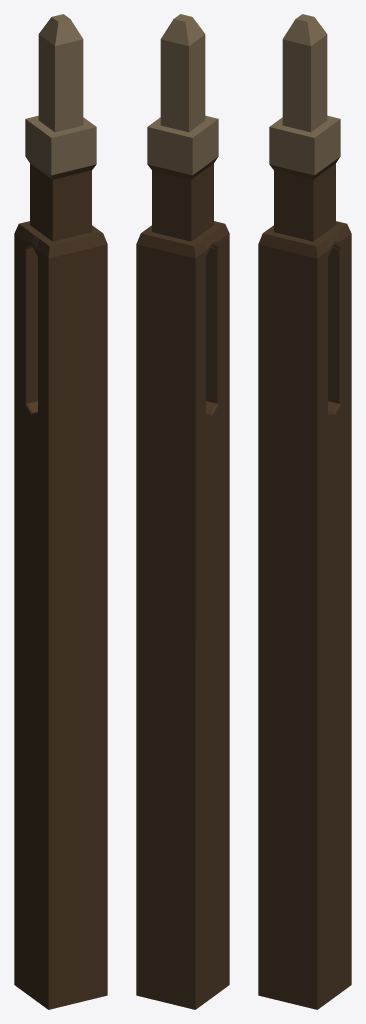
Rendered from BGBuilding2.fbx.
The picture shows the model from 3 angles, left to right: view 1: azimuth 30°, elevation 25°; view 2: azimuth 150°, elevation 25°; view 3: azimuth 330°, elevation 25°; orthographic projection.
Parts seen in each view (by area): view 1: BG3; view 2: BG3; view 3: BG3.
Part boxes in pixels (<box>): BG3: <box>14,14,107,1009</box>; BG3: <box>136,14,229,1009</box>; BG3: <box>258,14,351,1009</box>.
Size of the model in its own units: 14.87 by 233 by 14.9.
